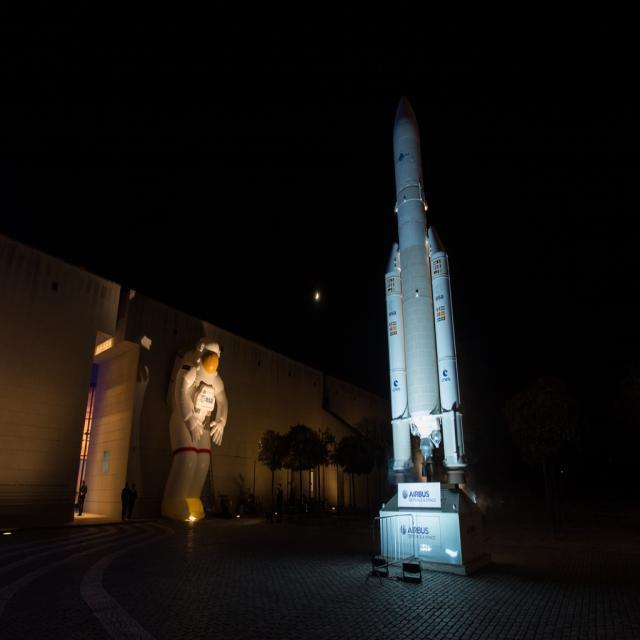missile: (382, 94, 478, 482)
